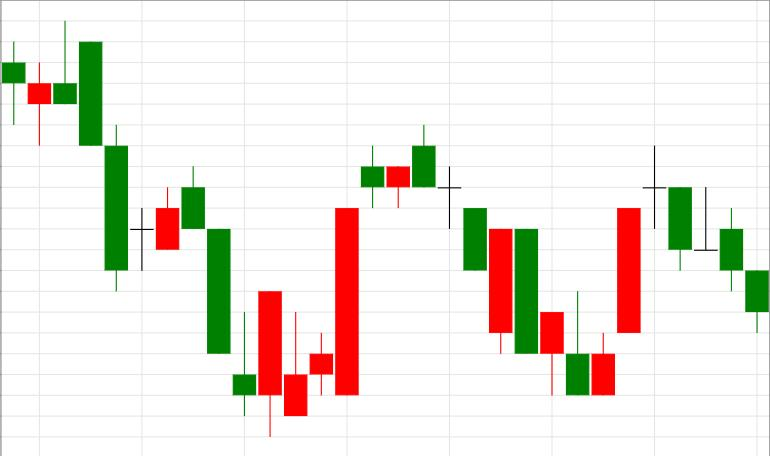evening_star_fall: (566, 146, 691, 395)
inverse_hammer_rise: (413, 125, 589, 395)
